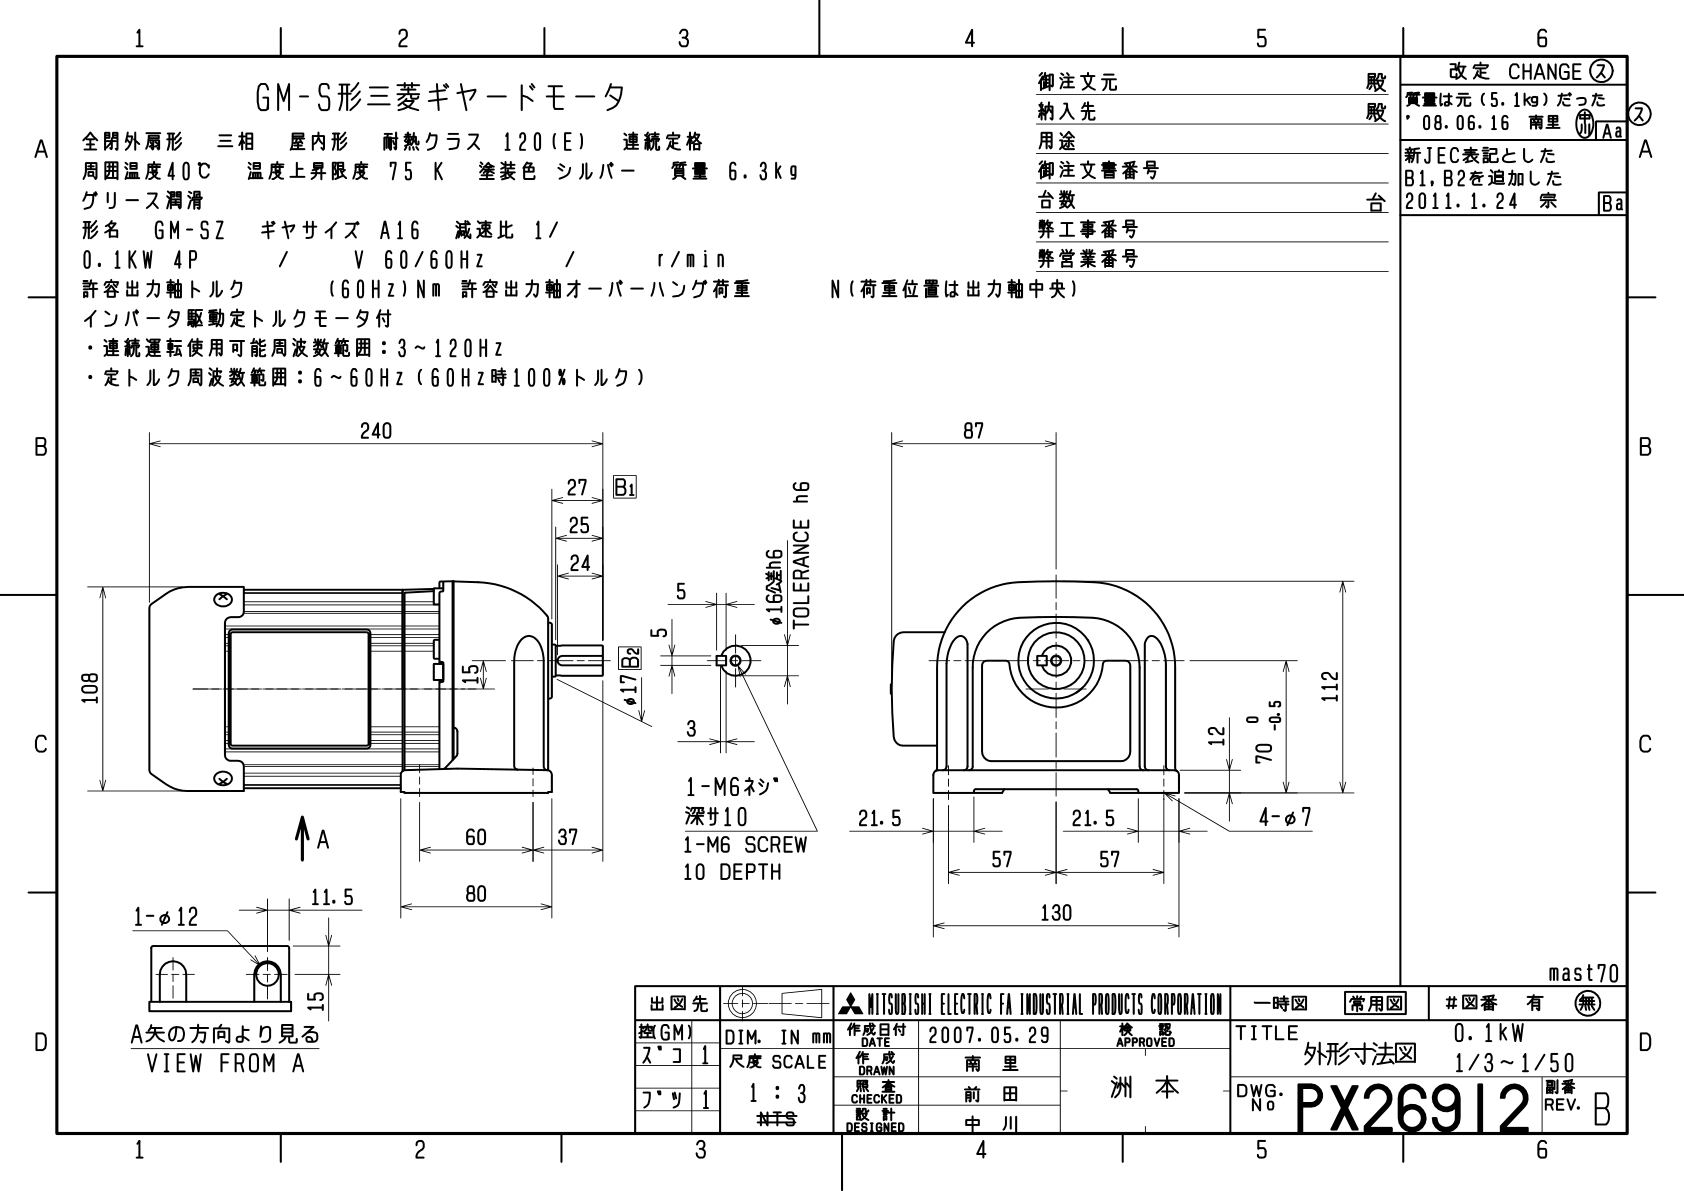GM_S_インバタ屋外＿三相_脚: (67, 398, 1370, 959)
